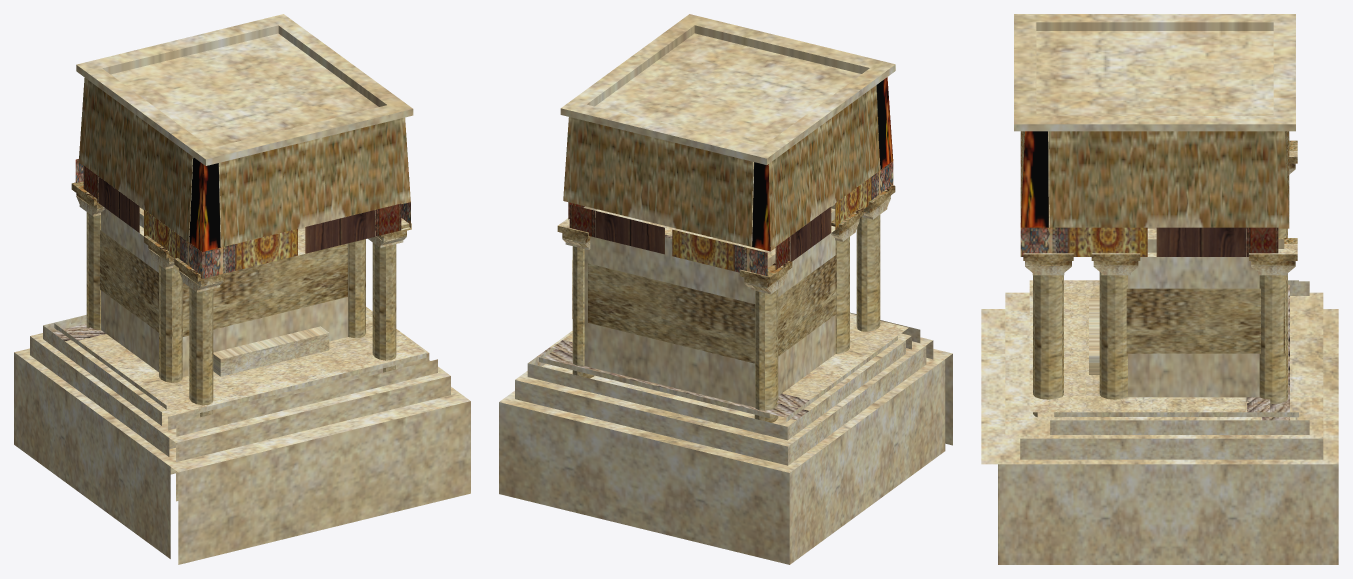
File: masoleu.dae
The picture shows the model from 3 angles, left to right: view 1: azimuth 30°, elevation 25°; view 2: azimuth 150°, elevation 25°; view 3: azimuth 270°, elevation 25°; orthographic projection. The views are drawn at different scales.
Parts seen in each view (by area): view 1: masoleu; view 2: masoleu; view 3: masoleu.
Part boxes in pixels (bbox=[...]): masoleu: bbox=[14, 14, 470, 564]; masoleu: bbox=[499, 14, 952, 564]; masoleu: bbox=[981, 14, 1338, 564].
Bounding box in the file's own units: 7.79 × 7.58 × 9.78.
